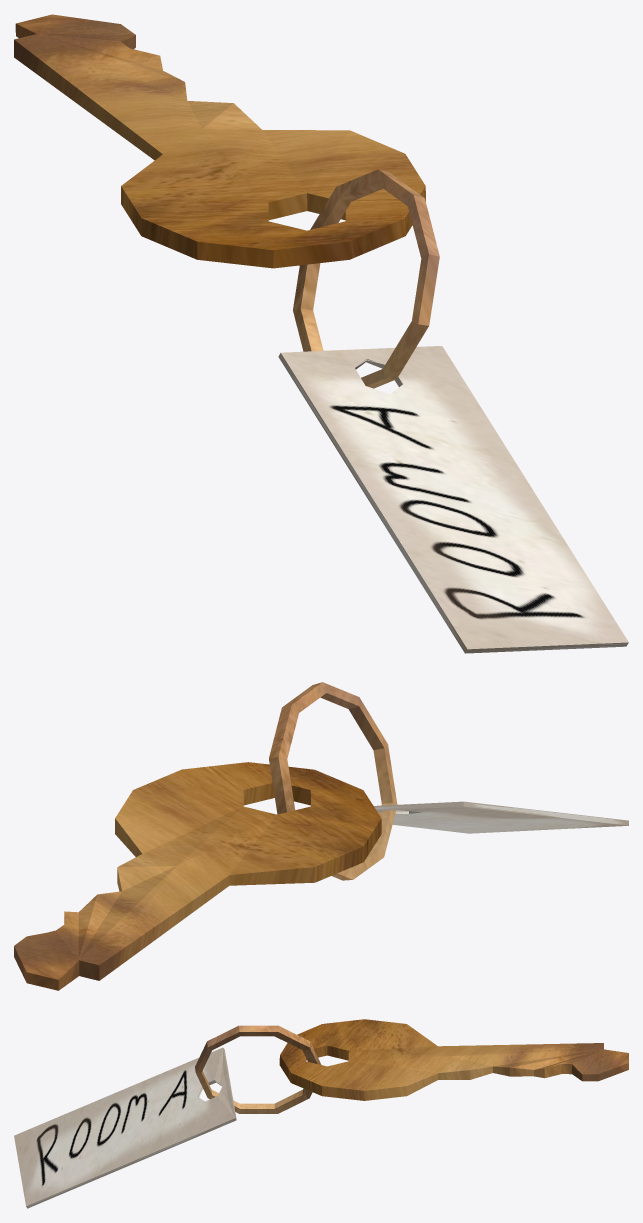
The model's file is RoomAKey.fbx.
3 views of the same model, one above another, from view 1: azimuth 30°, elevation 25°; view 2: azimuth 150°, elevation 25°; view 3: azimuth 270°, elevation 25° (orthographic). The views are drawn at different scales.
Parts seen in each view (by area): view 1: Circle.001; view 2: Circle.001; view 3: Circle.001.
Part boxes in pixels (<box>): Circle.001: <box>14,14,628,653</box>; Circle.001: <box>14,682,628,990</box>; Circle.001: <box>14,1019,628,1208</box>.
Size of the model in its own units: 2 by 2.3 by 7.24.
